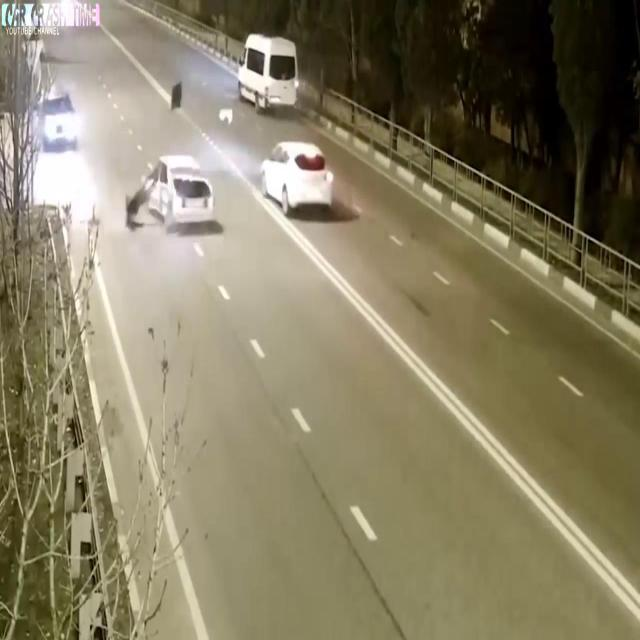accident: (117, 138, 227, 253)
